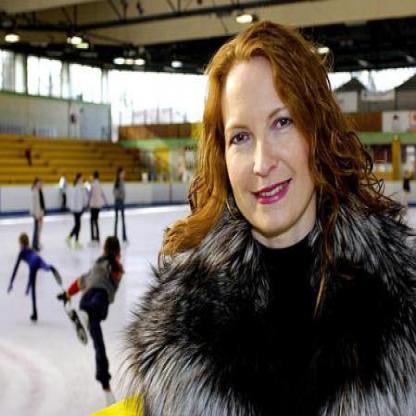face: (219, 35, 315, 239)
